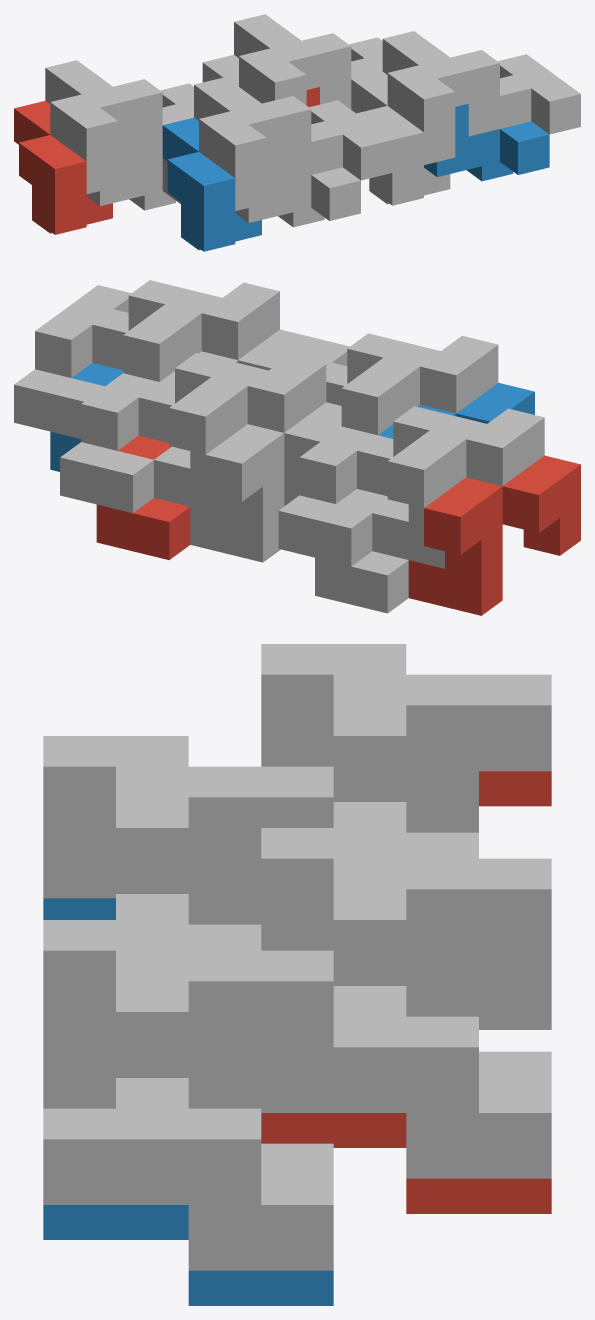
The model's file is tiling.obj.
3 views of the same model, one above another, from view 1: azimuth 30°, elevation 25°; view 2: azimuth 150°, elevation 25°; view 3: azimuth 270°, elevation 25° (orthographic). The views are drawn at different scales.
Visible parts, largest first — view 1: copy_2_domain_8, copy_2_domain_4, copy_1_domain_8, copy_1_domain_3, copy_1_domain_4, copy_1_domain_2, copy_1_domain_1, copy_1_domain_7, copy_1_domain_6, copy_2_domain_6, copy_2_domain_2, copy_2_domain_3 (+3 smaller); view 2: copy_1_domain_1, copy_1_domain_7, copy_1_domain_3, copy_2_domain_3, copy_2_domain_7, copy_2_domain_8, copy_1_domain_5, copy_1_domain_4, copy_1_domain_8, copy_2_domain_5, copy_2_domain_1, copy_2_domain_4 (+3 smaller); view 3: copy_2_domain_8, copy_2_domain_7, copy_1_domain_8, copy_1_domain_4, copy_1_domain_3, copy_1_domain_7, copy_2_domain_3, copy_2_domain_4, copy_2_domain_6, copy_2_domain_5, copy_1_domain_1, copy_1_domain_5 (+3 smaller).
Boxes of the visible parts, x1,y1,x2,y2 form: copy_2_domain_8: [450, 50, 580, 136]; copy_2_domain_4: [262, 96, 392, 182]; copy_1_domain_8: [382, 31, 468, 164]; copy_1_domain_3: [45, 60, 131, 194]; copy_1_domain_4: [194, 77, 279, 210]; copy_1_domain_2: [162, 117, 261, 251]; copy_1_domain_1: [14, 100, 112, 234]; copy_1_domain_7: [234, 14, 319, 105]; copy_1_domain_6: [351, 71, 450, 205]; copy_2_domain_6: [424, 104, 549, 181]; copy_2_domain_2: [235, 150, 360, 227]; copy_2_domain_3: [113, 79, 193, 165]; copy_1_domain_1: [408, 455, 580, 615]; copy_1_domain_7: [154, 355, 326, 515]; copy_1_domain_3: [372, 408, 544, 568]; copy_2_domain_3: [278, 406, 450, 566]; copy_2_domain_7: [60, 353, 231, 513]; copy_2_domain_8: [14, 280, 185, 438]; copy_1_domain_5: [190, 402, 341, 562]; copy_1_domain_4: [341, 336, 498, 435]; copy_1_domain_8: [123, 282, 279, 381]; copy_2_domain_5: [96, 435, 190, 559]; copy_2_domain_1: [315, 489, 408, 613]; copy_2_domain_4: [284, 333, 404, 492]; copy_2_domain_8: [43, 981, 333, 1270]; copy_2_domain_7: [261, 889, 551, 1178]; copy_1_domain_8: [43, 920, 333, 1108]; copy_1_domain_4: [43, 736, 333, 924]; copy_1_domain_3: [261, 644, 551, 832]; copy_1_domain_7: [261, 828, 551, 1016]; copy_2_domain_3: [333, 705, 551, 994]; copy_2_domain_4: [116, 797, 261, 950]; copy_2_domain_6: [43, 1205, 333, 1305]; copy_2_domain_5: [261, 1113, 551, 1213]; copy_1_domain_1: [479, 771, 551, 806]; copy_1_domain_5: [479, 955, 551, 990].
Size of the model in its own units: 15 by 4 by 7.
